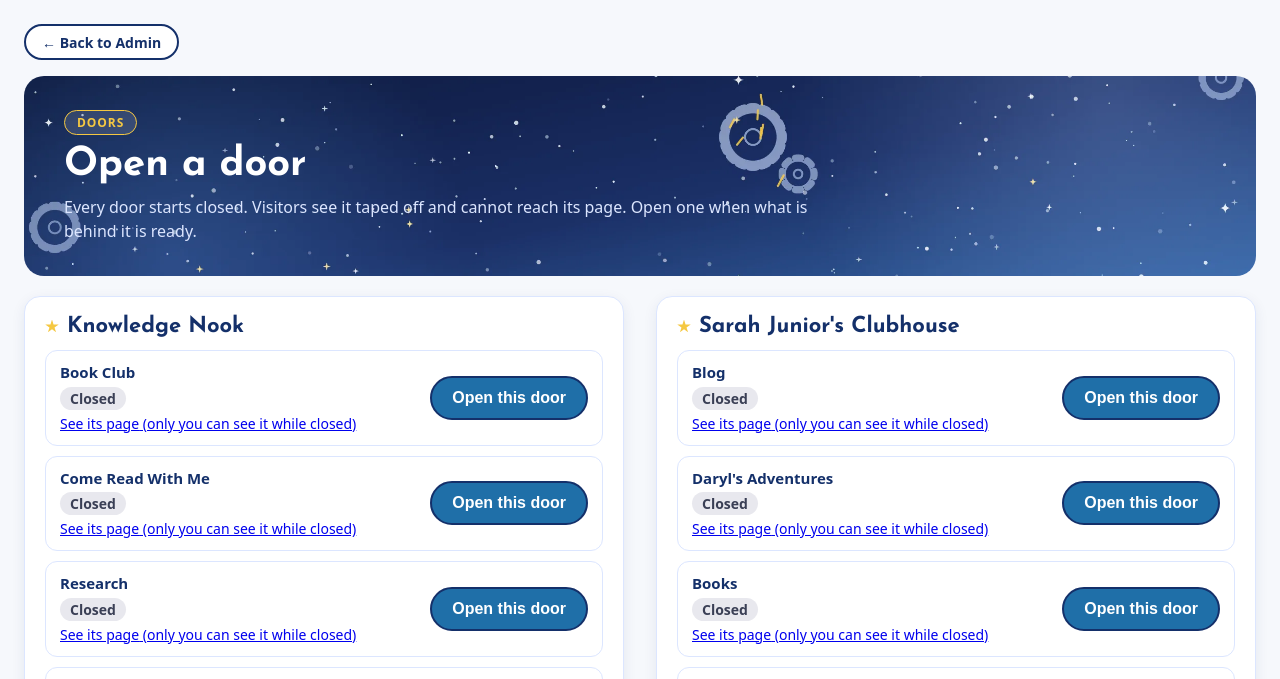
Test: the Open a door tool › says the door was not changed, and why, when saving fails; and the door stays as it was
This screenshot has width=1280, height=679.
Check: the heading "Open a door" is shown, box x1=64 y1=142 x2=306 y2=186
Click the button with aria-label "Open this door: Blog".
click(1141, 398)  # box x1=1062 y1=376 x2=1220 y2=420
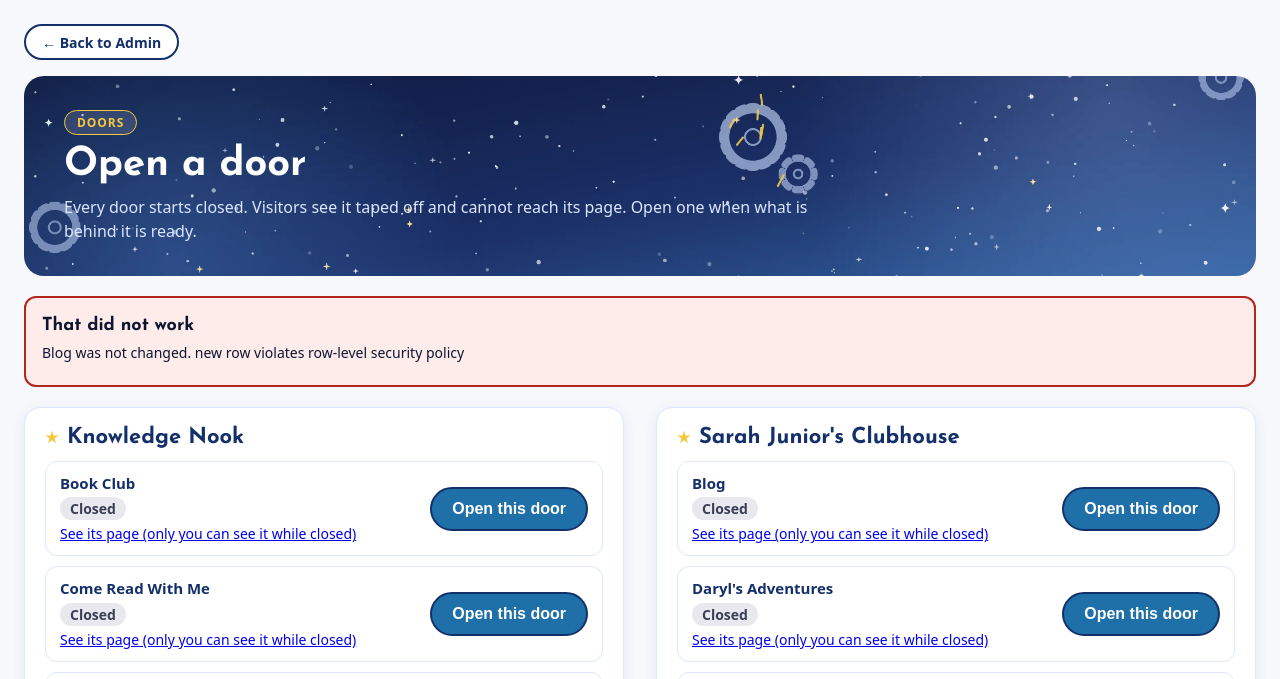
Check: the 2nd text "Closed" is shown, box x1=692 y1=498 x2=758 y2=520
Check: the message shows "Blog was not changed", box x1=42 y1=343 x2=464 y2=362
Check: the message shows "row-level security", box x1=42 y1=343 x2=464 y2=362
